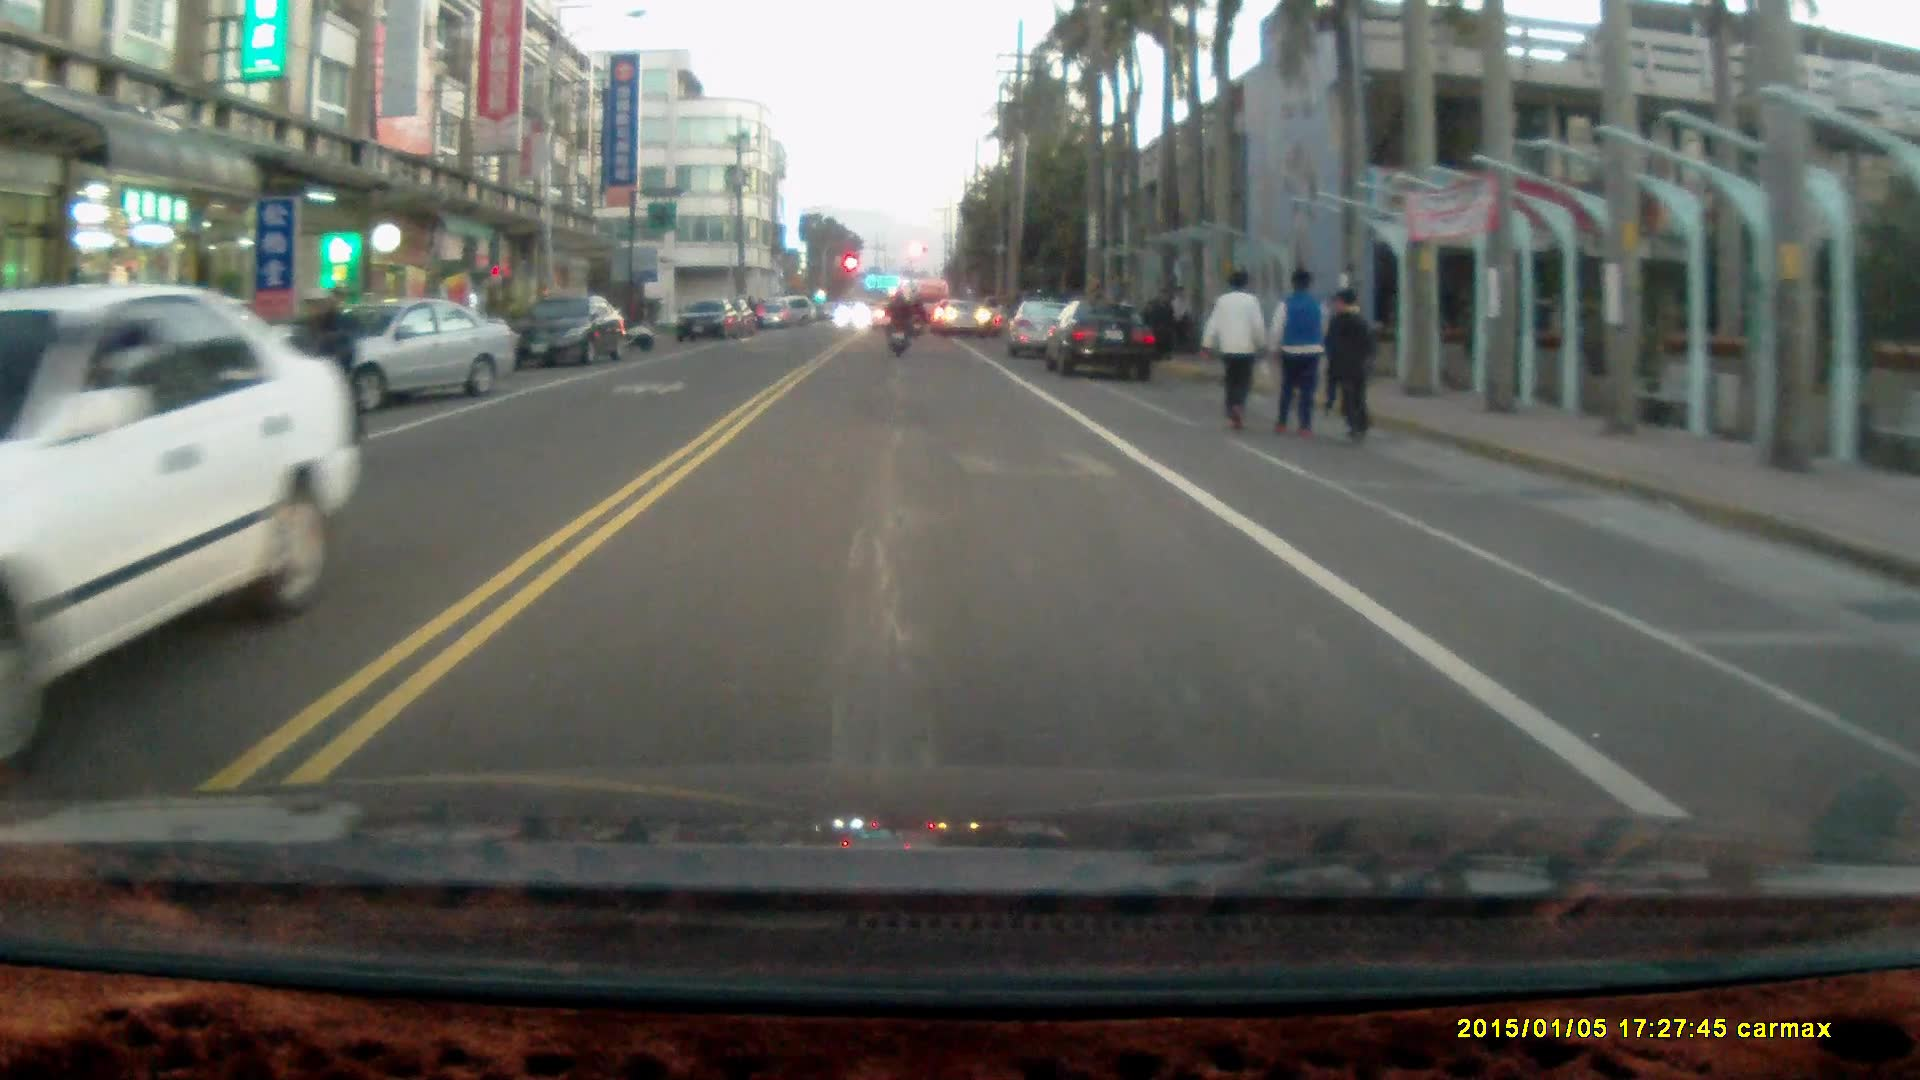pedestrian: (1202, 265, 1269, 433), (1266, 266, 1329, 440), (1323, 287, 1375, 445), (1145, 284, 1177, 361)
rider: (259, 283, 364, 480), (883, 285, 914, 356)
vehicle: (1, 289, 367, 763), (306, 298, 522, 408), (1045, 296, 1161, 380), (516, 293, 628, 370), (1010, 301, 1089, 363), (674, 300, 744, 344)
